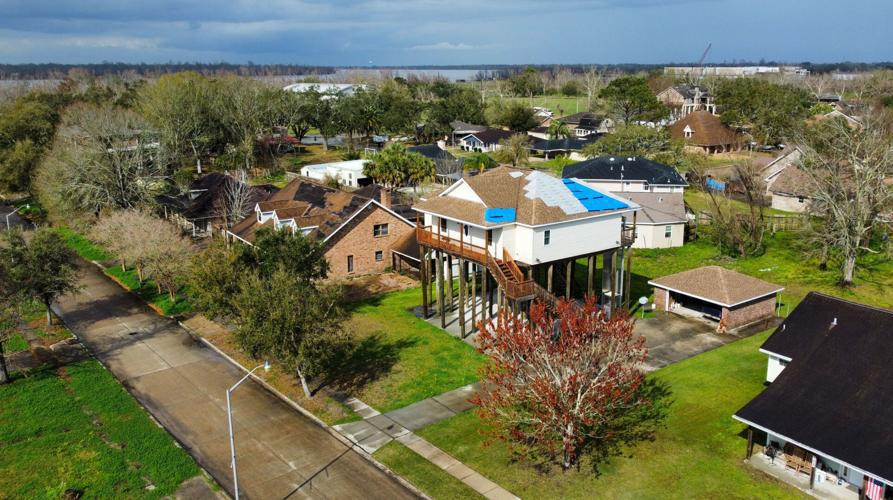affected: (721, 271, 893, 500)
minor: (400, 158, 650, 364), (199, 147, 432, 303)
